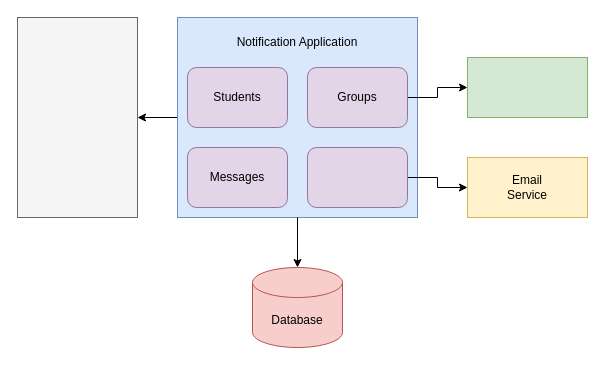
Image size: 605x365. Some labels were removed from this diagram. Here are the shapes that lost their labels. From the top down, the centre of each, then its label:
point (527, 87): SMS Service
point (77, 117): Azure Active Directory
point (357, 177): Deliveries & Schedules
